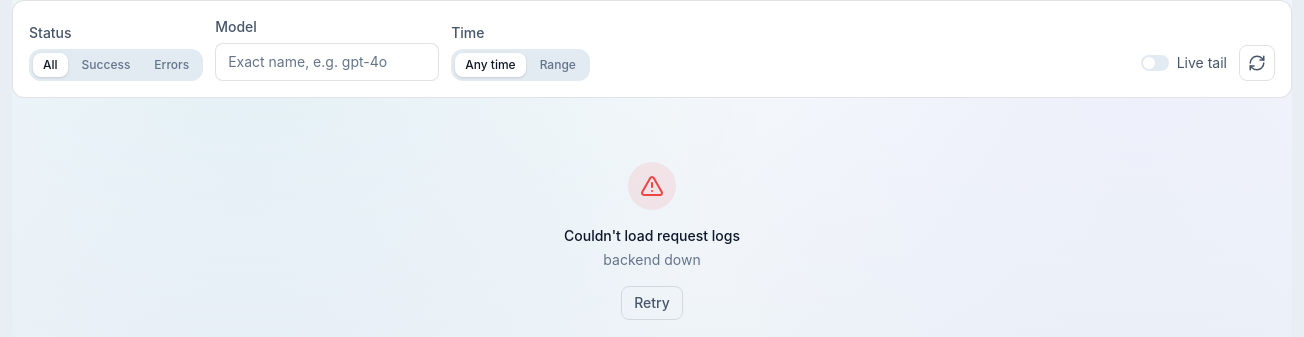
Scenario: RequestLogsPage › shows an error state with retry instead of "no data"
Expected: the text "backend down" is shown, top-left (603, 251), bottom-right (701, 268)
Click the button "Retry" at (652, 303), box top-left (621, 286), bottom-right (683, 320)
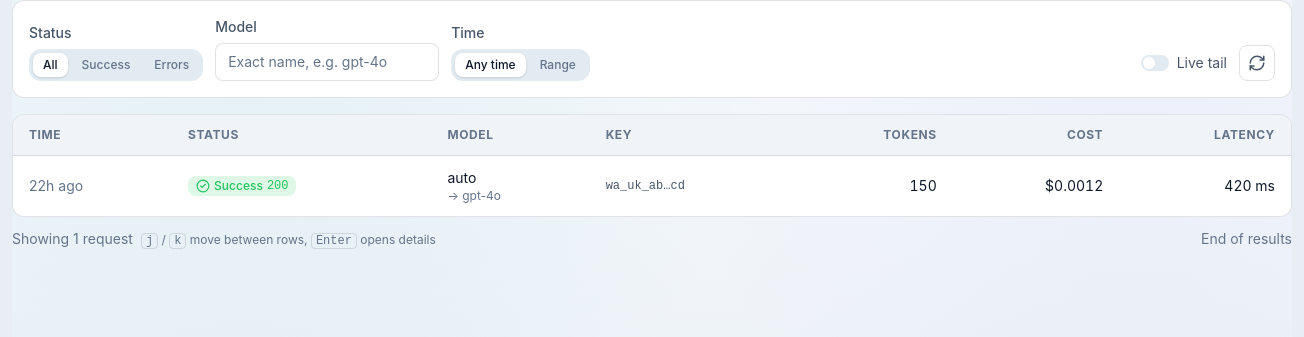
Result: the text "gpt-4o" is shown at top-left (462, 188), bottom-right (501, 203)
